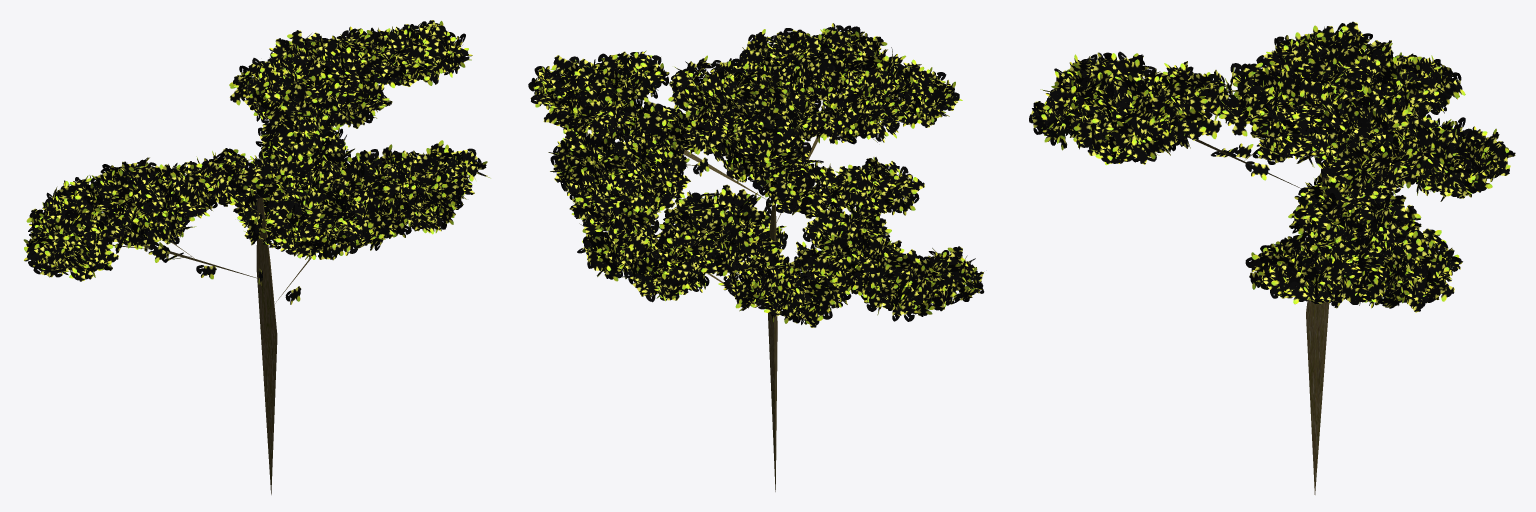
File: acacia_flat_v03_LOD1.fbx
3 views of the same model, side by side, from view 1: azimuth 30°, elevation 25°; view 2: azimuth 150°, elevation 25°; view 3: azimuth 270°, elevation 25° (orthographic). The views are drawn at different scales.
Parts seen in each view (by area): view 1: acacia_flat_v03_LOD1; view 2: acacia_flat_v03_LOD1; view 3: acacia_flat_v03_LOD1.
Part boxes in pixels (x1=…): acacia_flat_v03_LOD1: x1=23, y1=20, x2=490, y2=494; acacia_flat_v03_LOD1: x1=528, y1=23, x2=984, y2=491; acacia_flat_v03_LOD1: x1=1029, y1=21, x2=1515, y2=494.
Bounding box in the file's own units: 1263 × 1062 × 1164.
Materials: 2 (2 with a texture image).
